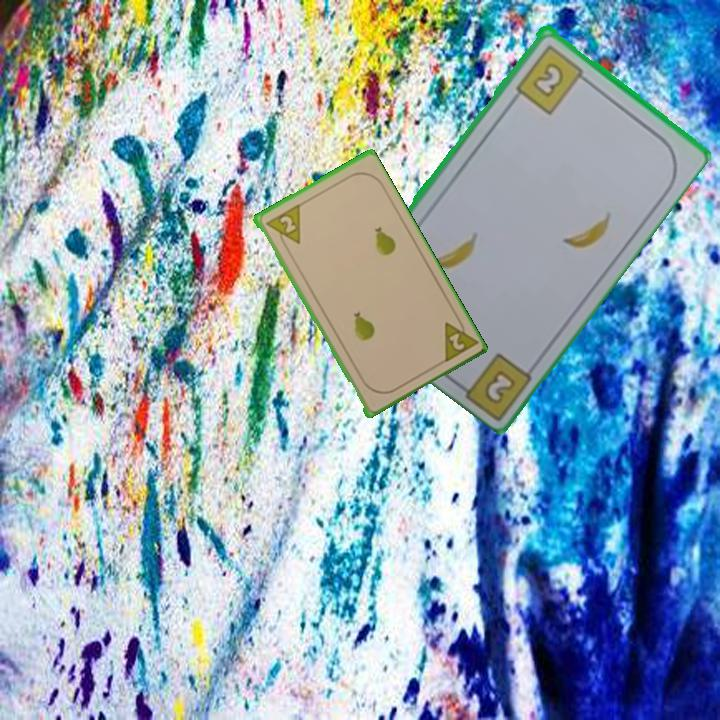2b: (512, 40, 592, 117), (483, 370, 515, 404)
2p: (438, 311, 479, 366), (261, 201, 303, 252)
